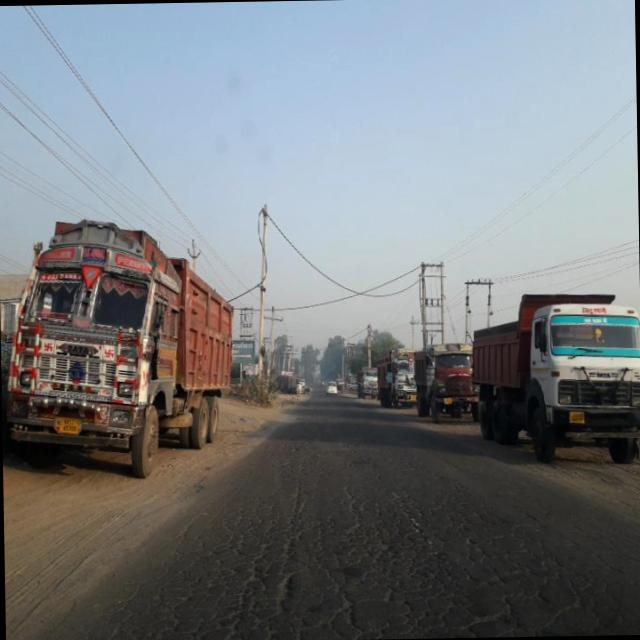crack: (105, 466, 640, 640)
